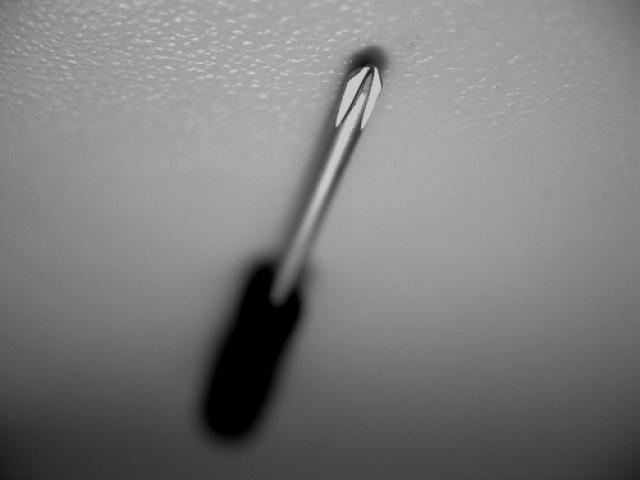Screwdriver: (206, 66, 382, 438)
